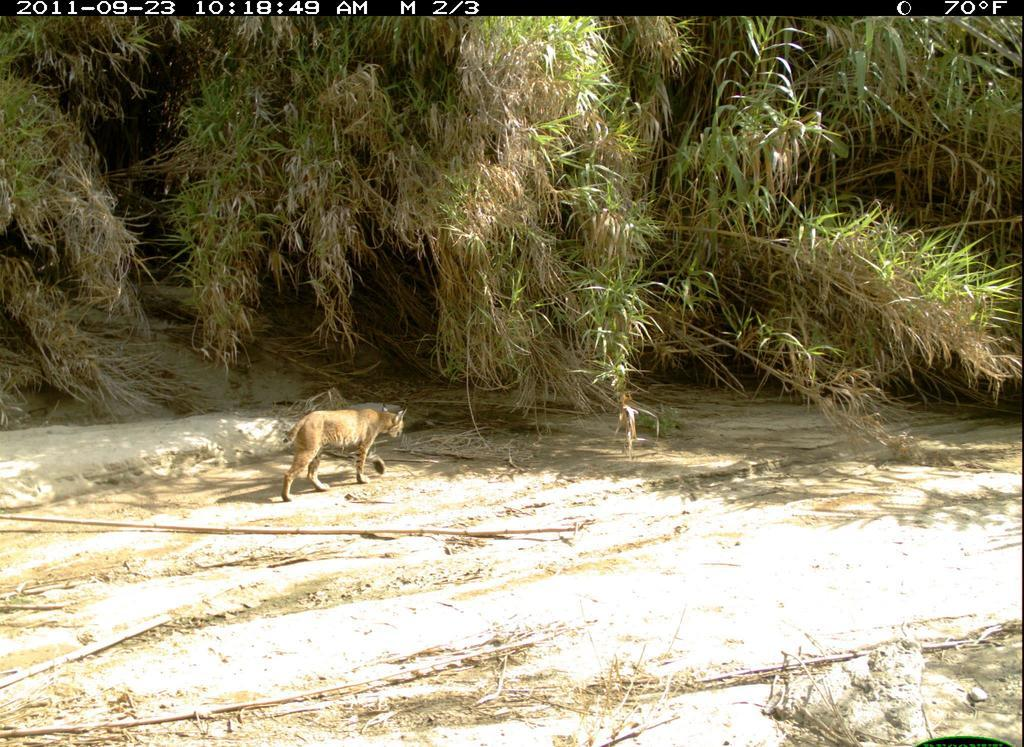bobcat: (281, 404, 412, 503)
